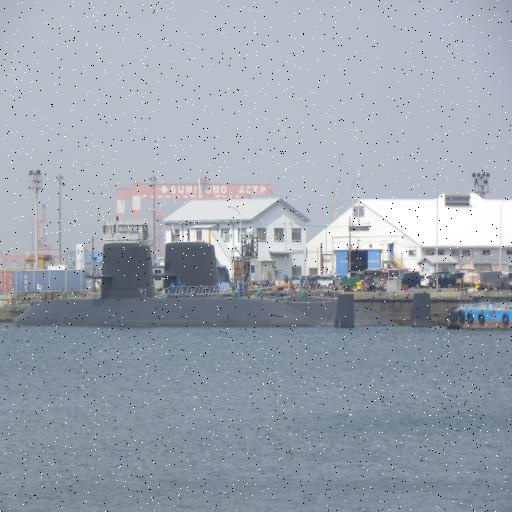submarine: (8, 245, 354, 328), (164, 243, 434, 325)
